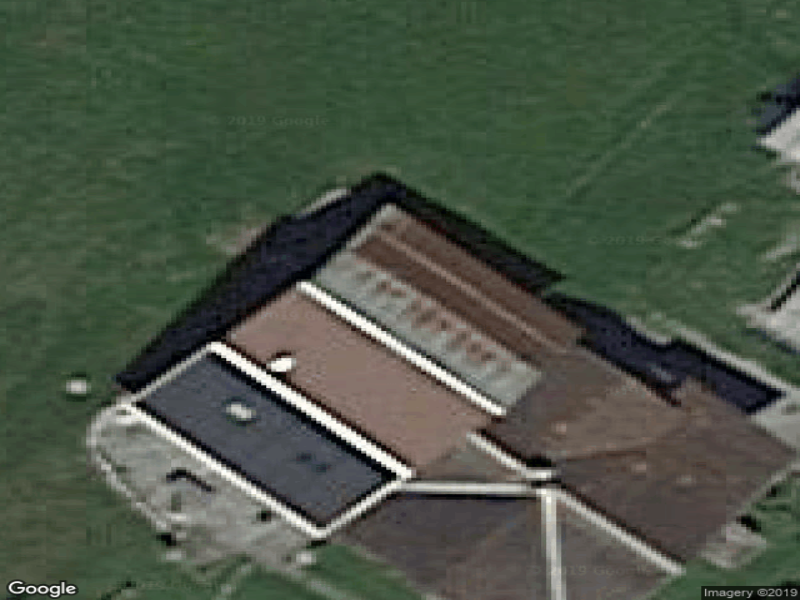pv: (133, 354, 395, 528)
